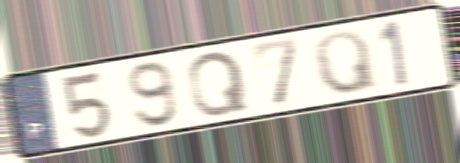1: (374, 17, 412, 90)
5: (57, 66, 116, 140)
7: (248, 34, 303, 110)
9: (123, 58, 180, 129)
Q: (310, 28, 383, 98), (185, 48, 253, 121)
